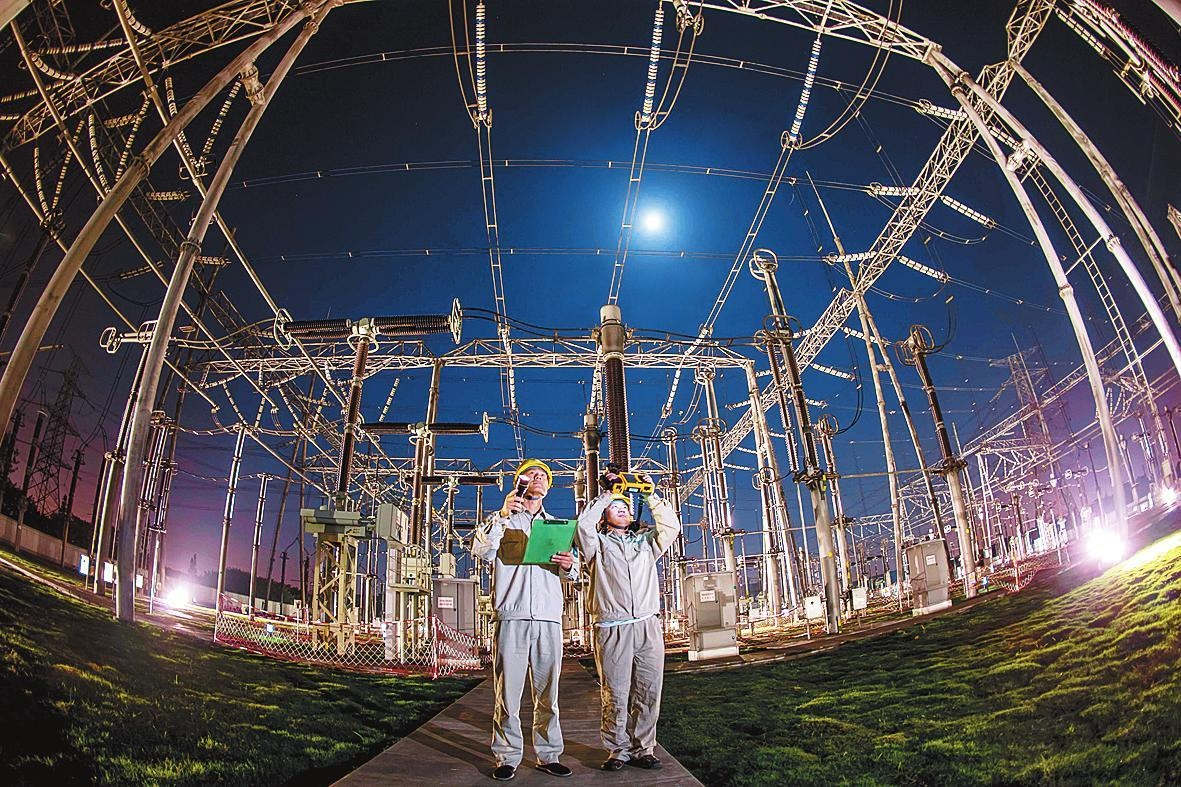yellow: (513, 455, 551, 500), (598, 488, 632, 531)
